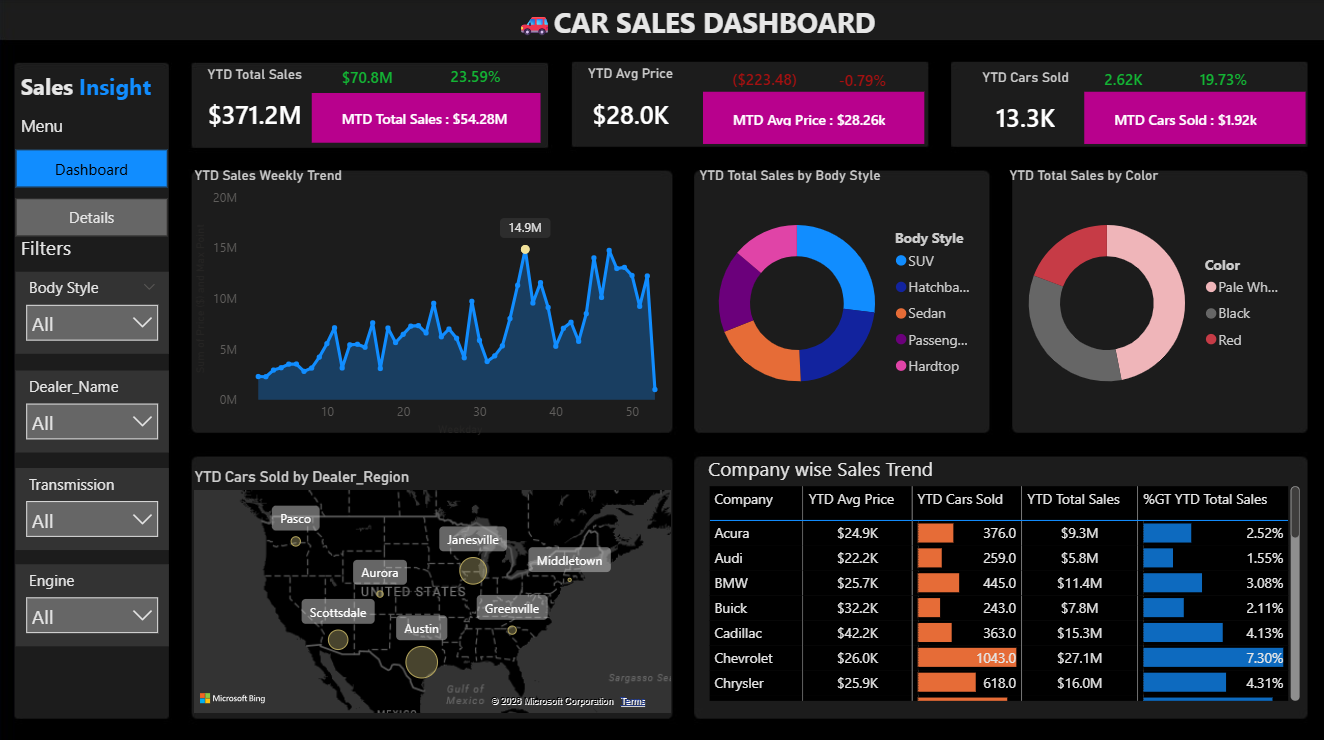

The page's visual inventory and layout, read from the dashboard file:
{"tool":"powerbi","page":{"name":"Dashboard","canvas":[1280,720],"ordinal":0},"visuals":[{"type":"cardVisual","title":"YTD  Total Sales","fields":{"Data":["car_data.YTD Total Sales"]},"box":[164.4,66.7,167.8,75.6],"z":0},{"type":"cardVisual","fields":{"Data":["car_data.Sales Difference"]},"box":[303.3,46.7,117.8,57.8],"z":1000},{"type":"cardVisual","fields":{"Data":["car_data.YoY Sales Growth"]},"box":[407.8,42.2,132.2,65.6],"z":2000},{"type":"cardVisual","fields":{"Data":["car_data.MTD KPI"]},"box":[303.3,92.2,221.1,47.8],"z":3000},{"type":"cardVisual","title":"YTD Avg Price","fields":{"Data":["car_data.YTD Avg Price"]},"box":[540,65,140,76.7],"z":4000},{"type":"cardVisual","fields":{"Data":["car_data.Avg Price Diff"]},"box":[671.7,48.3,136.7,58.3],"z":5000},{"type":"cardVisual","fields":{"Data":["car_data.YoY Avg Price Growth"]},"box":[758.3,38.3,151.7,78.3],"z":6000},{"type":"cardVisual","fields":{"Data":["car_data.MTD Avg Price KPI"]},"box":[680,90,213.3,50],"z":7000},{"type":"cardVisual","title":"YTD Cars Sold","fields":{"Data":["car_data.YTD Cars Sold"]},"box":[921.7,68.3,140,76.7],"z":8000},{"type":"cardVisual","fields":{"Data":["car_data.Cars Sold Diff"]},"box":[1018.3,48.3,136.7,58.3],"z":9000},{"type":"cardVisual","fields":{"Data":["car_data.YoY Car Sold Growth"]},"box":[1115,48.3,136.7,58.3],"z":10000},{"type":"cardVisual","fields":{"Data":["car_data.MTD Cars  Sold KPI"]},"box":[1048.3,90,213.3,50],"z":11000},{"type":"areaChart","title":"YTD Sales Weekly Trend","fields":{"Category":["Calender Table.Weekday"],"Y":["Sum(car_data.Price ($))","car_data.Max Point"]},"box":[184.8,164.6,472,263.7],"z":12000},{"type":"donutChart","fields":{"Category":["car_data.Body Style"],"Y":["car_data.YTD Total Sales"]},"box":[671.9,164.6,280.5,246.9],"z":13000},{"type":"donutChart","fields":{"Category":["car_data.Color"],"Y":["car_data.YTD Total Sales"]},"box":[970.9,164.6,280.5,246.9],"z":14000},{"type":"map","fields":{"Category":["car_data.Dealer_Region"],"Size":["car_data.YTD Cars Sold"]},"box":[184.8,453.5,470.3,241.9],"z":15000},{"type":"tableEx","title":"Company wise Sales Trend","fields":{"Values":["car_data.Company","car_data.YTD Avg Price","car_data.YTD Cars Sold","car_data.YTD Total Sales1","car_data.YTD Total Sales"]},"box":[680.3,441.8,581.2,241.9],"z":16000},{"type":"textbox","box":[184.6,0,984.5,65.1],"z":17000},{"type":"slicer","fields":{"Values":["car_data.Body Style"]},"box":[16.8,263.7,147.8,79],"z":18000},{"type":"slicer","fields":{"Values":["car_data.Dealer_Name"]},"box":[16.8,359.5,147.8,79],"z":19000},{"type":"slicer","fields":{"Values":["car_data.Transmission"]},"box":[16.8,453.5,147.8,79],"z":20000},{"type":"slicer","fields":{"Values":["car_data.Engine"]},"box":[16.8,545.9,147.8,79],"z":21000},{"type":"textbox","box":[16.8,223.4,147.8,40.3],"z":22000},{"type":"pageNavigator","box":[16.8,146.1,147.8,85.7],"z":23000},{"type":"textbox","box":[16.8,65.5,147.8,50.4],"z":24000},{"type":"textbox","box":[16.8,107.5,122.6,33.6],"z":25000}]}

Visuals, with their boxes in screenshot pixels (x1, y1, x2, y2), scaled from the page's 1280x720 canvas onto the 1324x740 screenshot:
"YTD  Total Sales" cardVisual: [left=170, top=69, right=344, bottom=146]
cardVisual - car_data.Sales Difference: [left=314, top=48, right=436, bottom=107]
cardVisual - car_data.YoY Sales Growth: [left=422, top=43, right=559, bottom=111]
cardVisual - car_data.MTD KPI: [left=314, top=95, right=542, bottom=144]
"YTD Avg Price" cardVisual: [left=559, top=67, right=703, bottom=146]
cardVisual - car_data.Avg Price Diff: [left=695, top=50, right=836, bottom=110]
cardVisual - car_data.YoY Avg Price Growth: [left=784, top=39, right=941, bottom=120]
cardVisual - car_data.MTD Avg Price KPI: [left=703, top=92, right=924, bottom=144]
"YTD Cars Sold" cardVisual: [left=953, top=70, right=1098, bottom=149]
cardVisual - car_data.Cars Sold Diff: [left=1053, top=50, right=1195, bottom=110]
cardVisual - car_data.YoY Car Sold Growth: [left=1153, top=50, right=1295, bottom=110]
cardVisual - car_data.MTD Cars  Sold KPI: [left=1084, top=92, right=1305, bottom=144]
"YTD Sales Weekly Trend" areaChart: [left=191, top=169, right=679, bottom=440]
donutChart - car_data.Body Style x car_data.YTD Total Sales: [left=695, top=169, right=985, bottom=423]
donutChart - car_data.Color x car_data.YTD Total Sales: [left=1004, top=169, right=1294, bottom=423]
map - car_data.Dealer_Region x car_data.YTD Cars Sold: [left=191, top=466, right=678, bottom=715]
"Company wise Sales Trend" tableEx: [left=704, top=454, right=1305, bottom=703]
textbox: [left=191, top=0, right=1209, bottom=67]
slicer - car_data.Body Style: [left=17, top=271, right=170, bottom=352]
slicer - car_data.Dealer_Name: [left=17, top=369, right=170, bottom=451]
slicer - car_data.Transmission: [left=17, top=466, right=170, bottom=547]
slicer - car_data.Engine: [left=17, top=561, right=170, bottom=642]
textbox: [left=17, top=230, right=170, bottom=271]
pageNavigator: [left=17, top=150, right=170, bottom=238]
textbox: [left=17, top=67, right=170, bottom=119]
textbox: [left=17, top=110, right=144, bottom=145]
